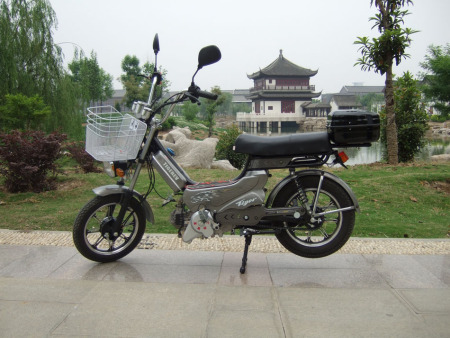电动车: (62, 31, 388, 281)
